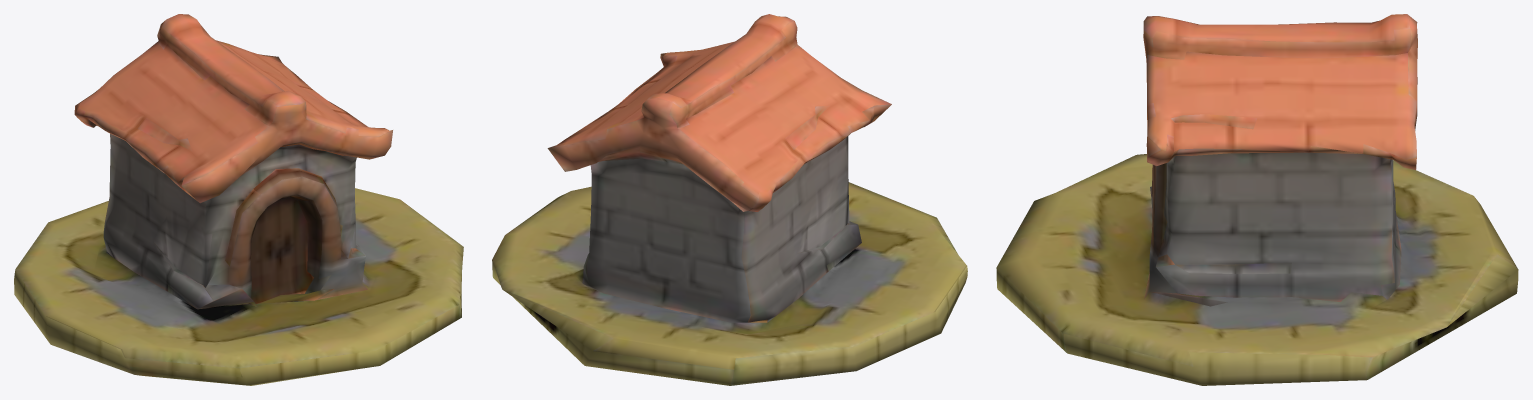
The model's file is home.glb.
3 views of the same model, side by side, from view 1: azimuth 30°, elevation 25°; view 2: azimuth 150°, elevation 25°; view 3: azimuth 270°, elevation 25° (orthographic). The views are drawn at different scales.
Visible parts, largest first — view 1: Mesh0; view 2: Mesh0; view 3: Mesh0.
Boxes of the visible parts, x1,y1,x2,y2 form: Mesh0: (14, 14, 463, 385); Mesh0: (492, 14, 967, 385); Mesh0: (996, 14, 1518, 385).
Size of the model in its own units: 1.89 by 1.07 by 1.91.
Materials: 1 (1 with a texture image).
